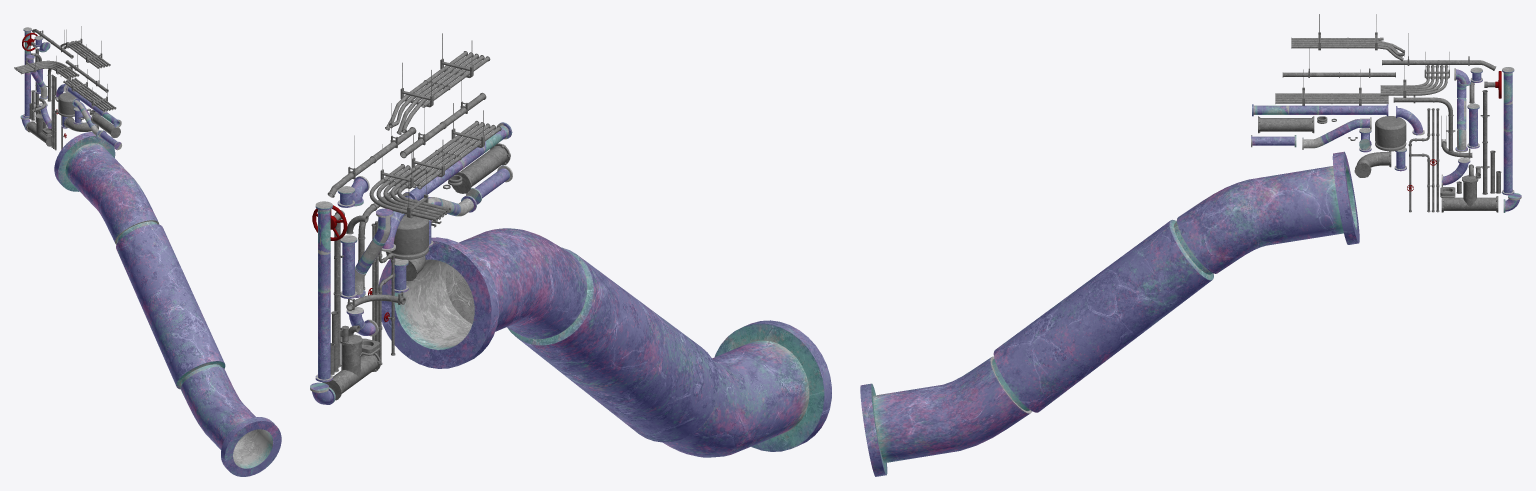
File: poppy_playtime_chapter_2__pipes.glb
3 views of the same model, side by side, from view 1: azimuth 30°, elevation 25°; view 2: azimuth 150°, elevation 25°; view 3: azimuth 270°, elevation 25° (orthographic). The views are drawn at different scales.
Visible parts, largest first — view 1: PipeHeightChange_MoreVertex.mo, ceiling_pipes_5M.mo, ceiling_pipes_5M_corner.mo, ceiling_pipes_5M_broken.mo, wall_pipes_b.mo, SM_Pipe_Long_6m.mo, pipe_2halfM_T_fix.mo, PipeMisc01_Cylinder3_2.mo, PipeLong.mo, pipe_2halfM_straight_fix.mo, PipeHeightChange.mo; view 2: PipeHeightChange_MoreVertex.mo, ceiling_pipes_5M_broken.mo, SM_Pipe_Long_6m.mo, ceiling_pipes_5M_corner.mo, ceiling_pipes_5M.mo, pipe_2halfM_T_fix.mo, wall_pipes_b.mo, PipeMisc01_Cylinder3_2.mo, PipeLong.mo, pipe_2halfM_straight_fix.mo, SM_Pipe_Long_S_3m.mo, ceiling_pipe_5M_broken.mo (+5 smaller); view 3: PipeHeightChange_MoreVertex.mo, PipeLong.mo, ceiling_pipes_5M_broken.mo, ceiling_pipes_5M.mo, SM_Pipe_Long_6m.mo, wall_pipes_b.mo, ceiling_pipes_5M_corner.mo, pipe_2halfM_T_fix.mo, PipeMisc01_Cylinder3_2.mo, pipe_2halfM_straight_fix.mo, PipeHeightChange.mo, SM_Pipe_Long_S_3m.mo.
Boxes of the visible parts, x1,y1,x2,y2 form: PipeHeightChange_MoreVertex.mo: [54, 132, 281, 476]; ceiling_pipes_5M.mo: [63, 69, 116, 112]; ceiling_pipes_5M_corner.mo: [14, 48, 79, 79]; ceiling_pipes_5M_broken.mo: [60, 26, 110, 68]; wall_pipes_b.mo: [51, 74, 66, 150]; SM_Pipe_Long_6m.mo: [23, 27, 31, 117]; pipe_2halfM_T_fix.mo: [26, 114, 51, 146]; PipeMisc01_Cylinder3_2.mo: [58, 92, 76, 117]; PipeLong.mo: [66, 85, 121, 127]; pipe_2halfM_straight_fix.mo: [91, 113, 120, 137]; PipeHeightChange.mo: [72, 98, 101, 138]; PipeHeightChange_MoreVertex.mo: [378, 228, 831, 457]; ceiling_pipes_5M_broken.mo: [385, 33, 490, 134]; SM_Pipe_Long_6m.mo: [315, 201, 332, 382]; ceiling_pipes_5M_corner.mo: [369, 144, 450, 222]; ceiling_pipes_5M.mo: [396, 103, 501, 189]; pipe_2halfM_T_fix.mo: [322, 334, 381, 400]; wall_pipes_b.mo: [368, 220, 395, 364]; PipeMisc01_Cylinder3_2.mo: [386, 215, 428, 259]; PipeLong.mo: [402, 122, 512, 200]; pipe_2halfM_straight_fix.mo: [452, 143, 510, 193]; SM_Pipe_Long_S_3m.mo: [355, 208, 393, 297]; ceiling_pipe_5M_broken.mo: [327, 103, 416, 197]; PipeHeightChange_MoreVertex.mo: [860, 151, 1359, 476]; PipeLong.mo: [1252, 104, 1388, 116]; ceiling_pipes_5M_broken.mo: [1291, 14, 1404, 60]; ceiling_pipes_5M.mo: [1275, 69, 1388, 105]; SM_Pipe_Long_6m.mo: [1502, 67, 1514, 195]; wall_pipes_b.mo: [1407, 108, 1439, 212]; ceiling_pipes_5M_corner.mo: [1380, 52, 1449, 97]; pipe_2halfM_T_fix.mo: [1441, 175, 1498, 212]; PipeMisc01_Cylinder3_2.mo: [1375, 116, 1406, 151]; pipe_2halfM_straight_fix.mo: [1258, 116, 1314, 133]; PipeHeightChange.mo: [1302, 117, 1371, 149]; SM_Pipe_Long_S_3m.mo: [1455, 79, 1467, 152].
Bounding box in the file's own units: 4.56 × 22.09 × 29.19.
Materials: 5 (4 with a texture image).
